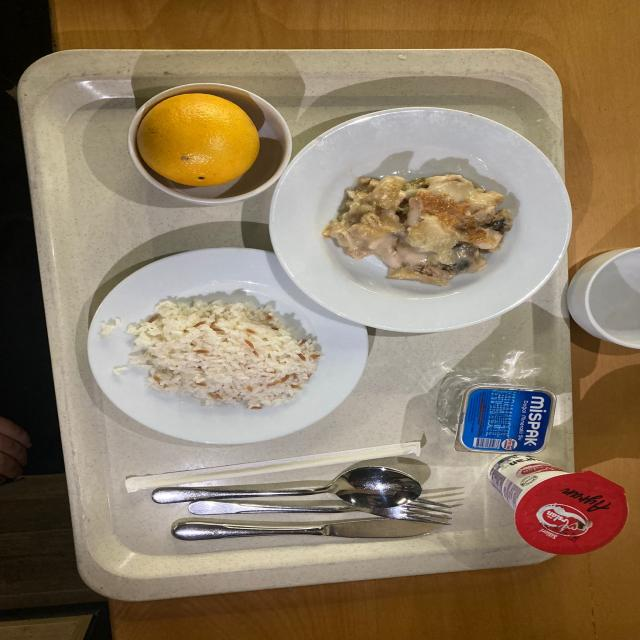ana_yemek: (271, 108, 566, 328), (83, 252, 367, 420)
yan_yemek: (126, 82, 286, 202)
